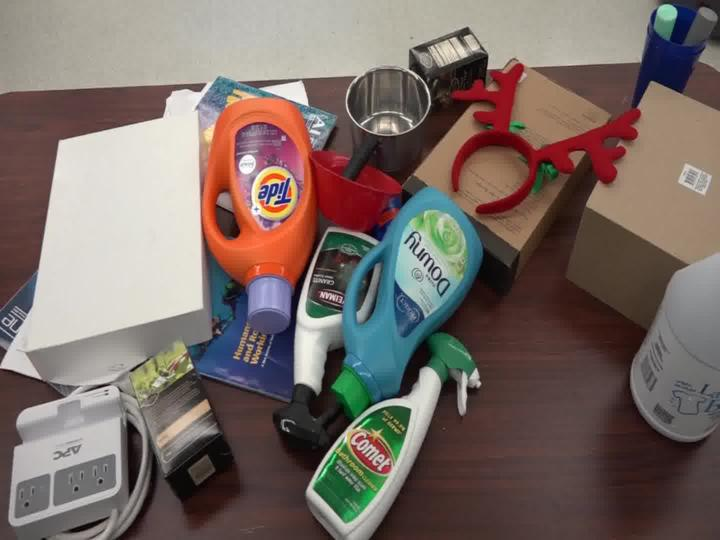tide: (179, 85, 327, 335)
